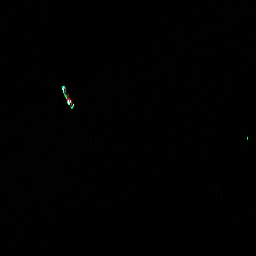ship: (59, 83, 76, 110)
